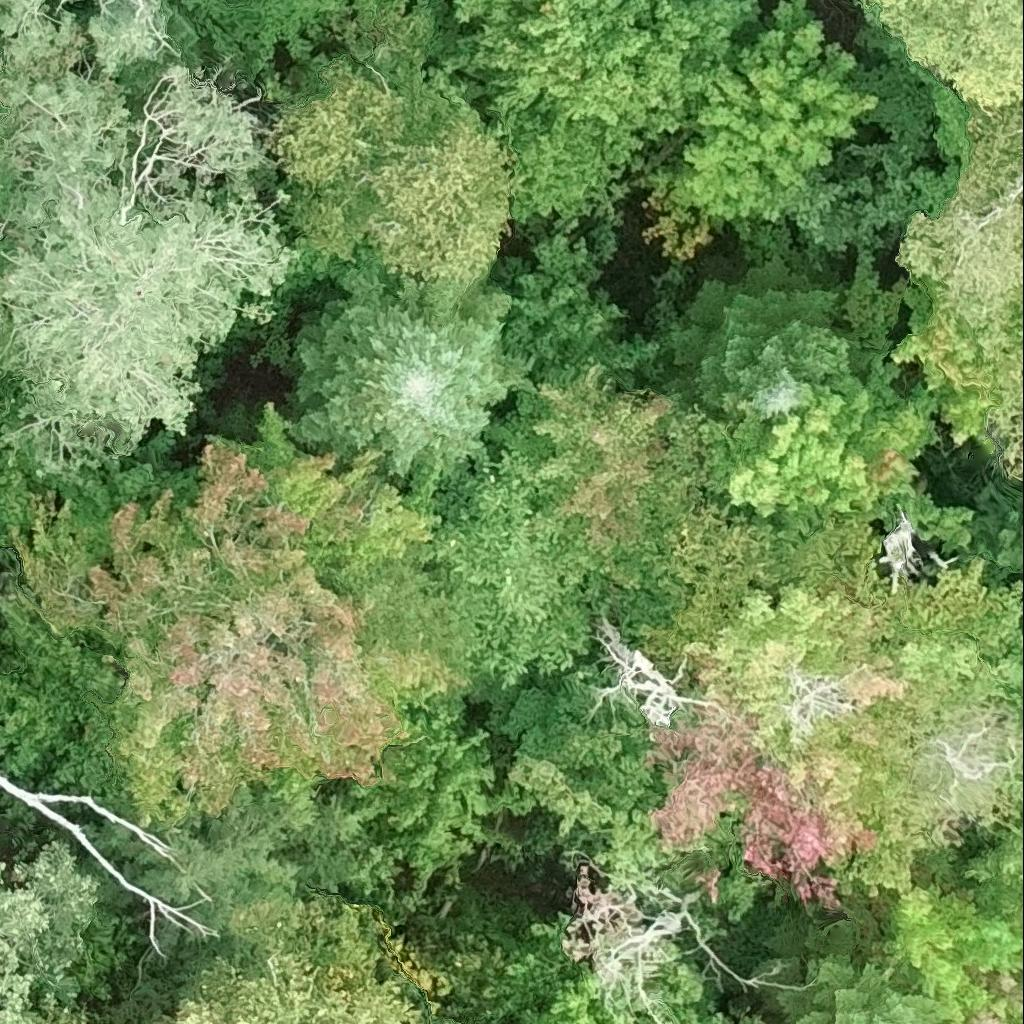crown: (20, 409, 469, 822), (0, 59, 300, 481), (704, 567, 1023, 894), (647, 673, 876, 913), (293, 262, 536, 476), (270, 0, 455, 263), (900, 96, 1023, 477), (475, 0, 759, 155), (673, 0, 871, 219), (427, 453, 607, 687), (513, 371, 707, 585), (0, 778, 219, 963), (690, 374, 937, 524), (173, 894, 457, 1023), (676, 261, 851, 425), (367, 107, 518, 288), (510, 730, 683, 885), (503, 229, 655, 390), (874, 694, 1023, 852), (560, 872, 700, 1023), (895, 273, 1004, 457), (888, 889, 1023, 1023), (0, 840, 97, 1023), (867, 0, 1023, 102), (487, 915, 634, 1023), (494, 103, 617, 221), (786, 952, 966, 1023), (0, 0, 87, 76), (92, 0, 179, 75), (586, 632, 662, 708), (979, 815, 1023, 923), (972, 511, 1023, 601), (30, 994, 103, 1023), (868, 525, 903, 559), (1008, 758, 1023, 803), (744, 1021, 760, 1023)
